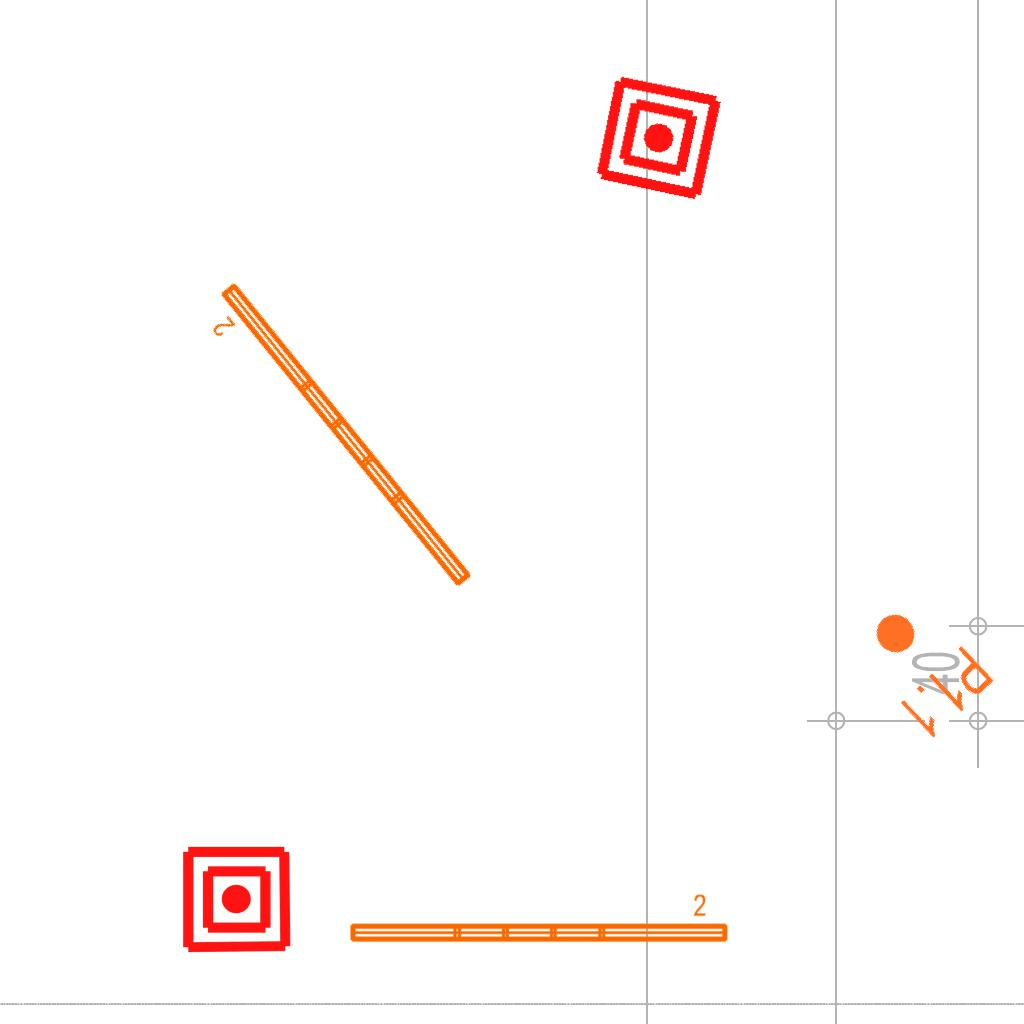Ambulanz_Pendelleuchte_LED: (192, 275, 481, 611), (345, 892, 732, 948)
Downlight_LED_Einbauleuchten_Flur: (843, 587, 1000, 745)
NAM-Nichtautomatischer_Melder: (591, 70, 726, 205), (180, 843, 293, 956)
